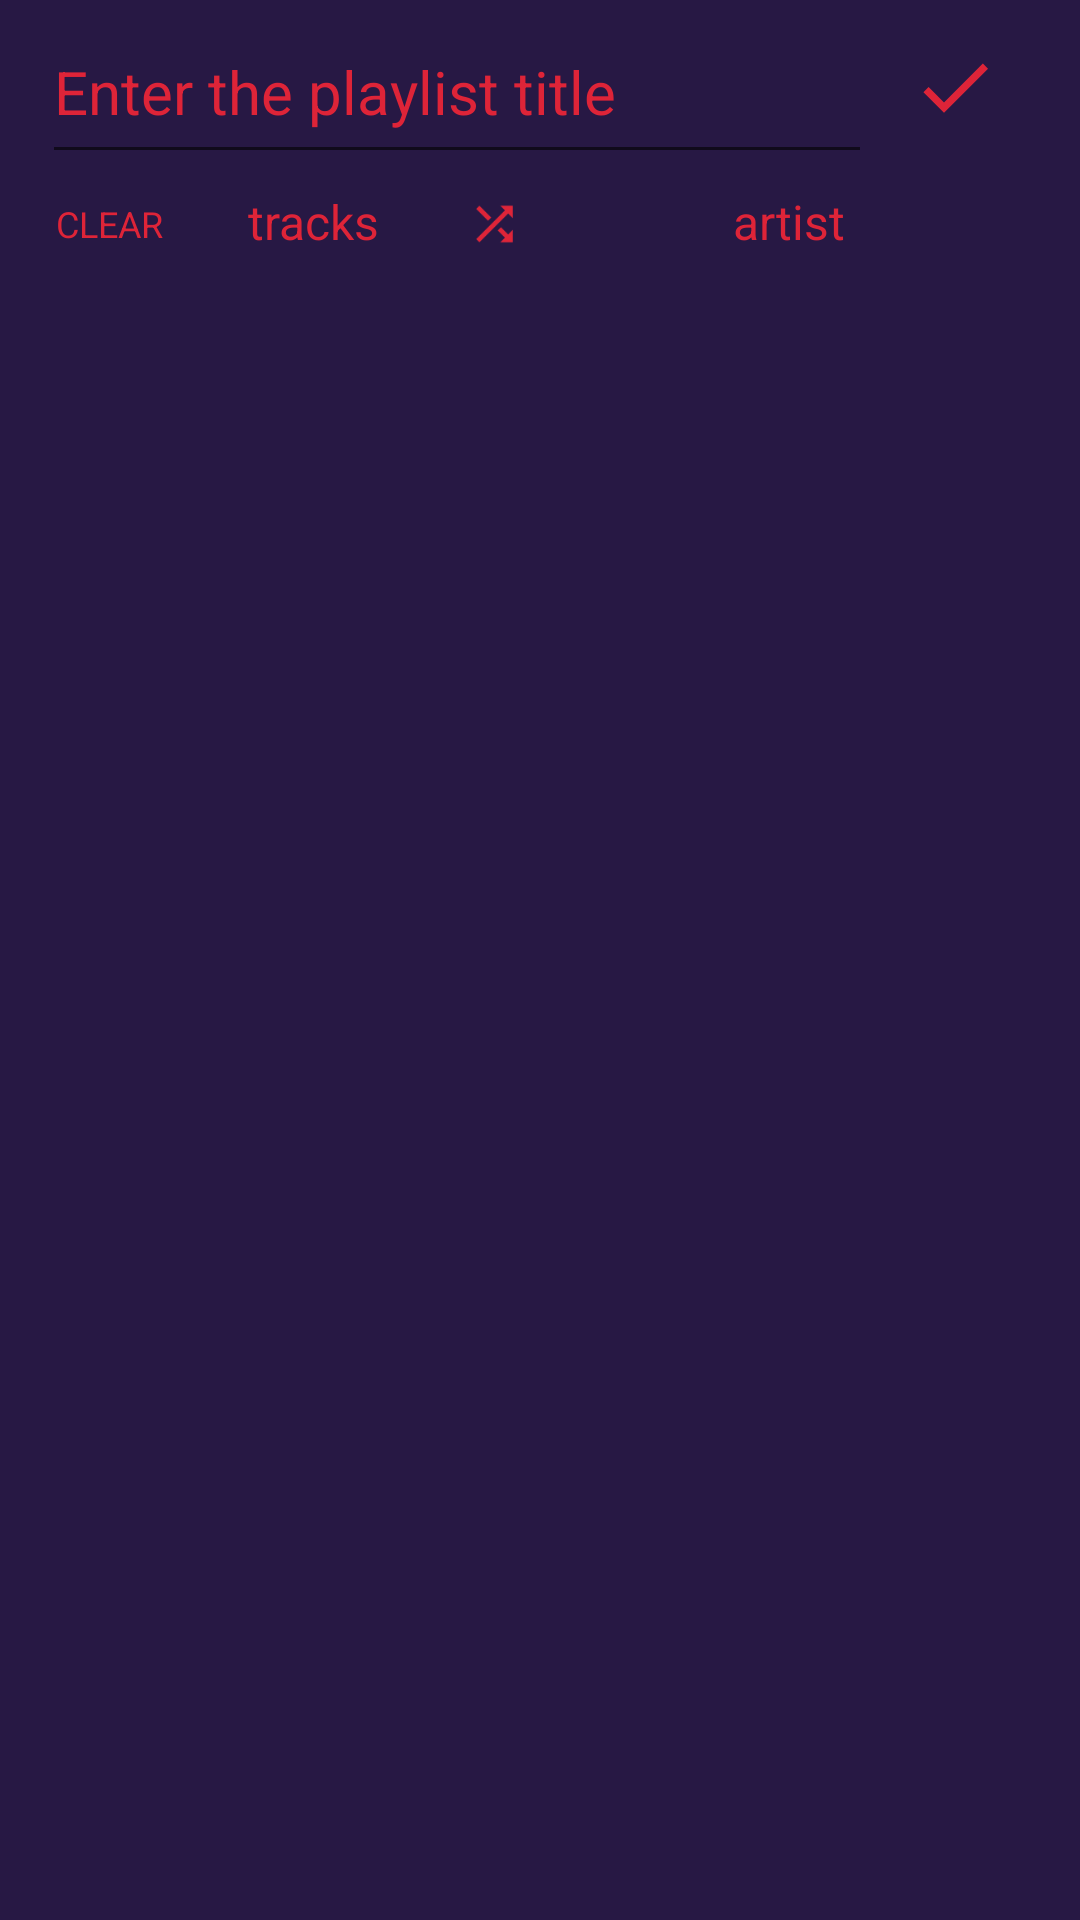

Icons on this 1080 x 1920 Android screen, each with its box as (x1, y1, x2, y2):
done: (923, 63, 988, 113)
shuffle: (476, 205, 513, 243)
